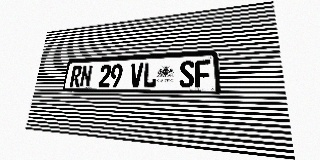2: (98, 64, 112, 87)
9: (109, 64, 123, 87)
F: (195, 60, 211, 88)
L: (143, 62, 157, 88)
N: (80, 65, 93, 87)
R: (70, 66, 83, 87)
S: (179, 60, 194, 88)
V: (130, 63, 144, 87)
